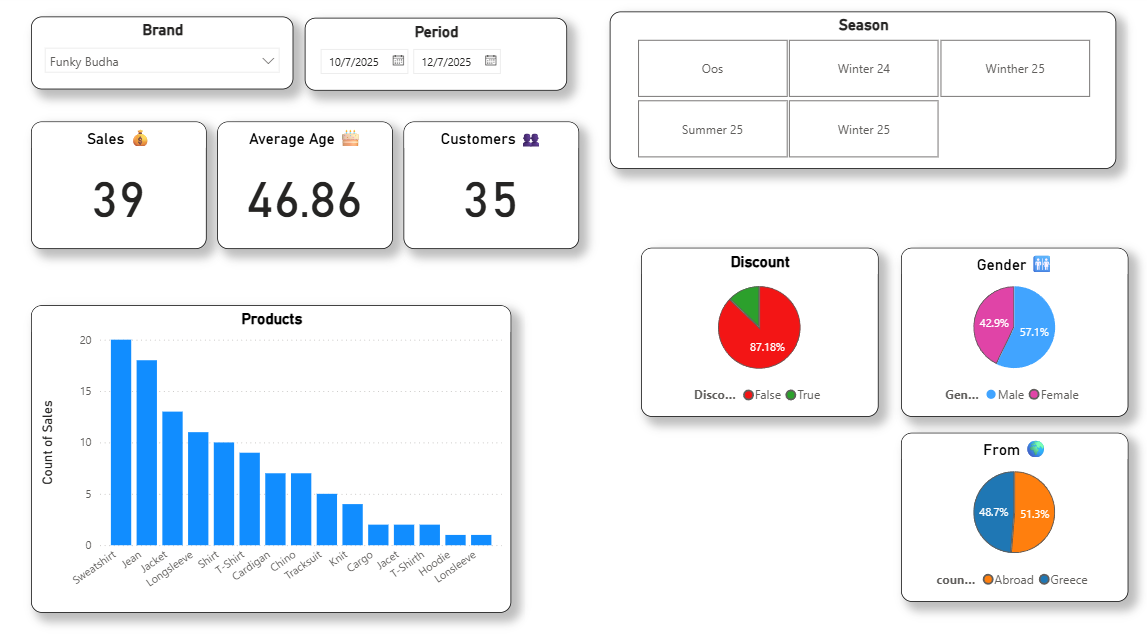

This screenshot's page, from the dashboard's own definition file:
{"tool":"powerbi","page":{"name":"Per Brand","canvas":[1280,720],"ordinal":3},"visuals":[{"type":"slicer","title":"Brand","fields":{"Values":["retail v_sales_fct.brand"]},"box":[38.5,24.2,287.9,79.8],"z":0},{"type":"card","title":"Sales 💰","fields":{"Values":["CountNonNull(retail v_sales_fct.sales_id)"]},"box":[38.5,139.7,192.4,139.7],"z":1000},{"type":"card","title":"Average Age 🎂","fields":{"Values":["Avg(retail v_customer.age)"]},"box":[242.3,139.7,192.4,139.7],"z":2000},{"type":"pieChart","title":"Gender 🚻","fields":{"Y":["CountNonNull(retail v_customer.gender)"],"Category":["retail v_customer.gender"]},"box":[993.2,278.8,249.4,185.3],"z":3000},{"type":"pieChart","title":"From 🌍","fields":{"Category":["retail v_sales_fct.country"],"Y":["CountNonNull(retail v_sales_fct.country)"]},"box":[993.2,481.2,249.4,185.3],"z":4000},{"type":"slicer","title":"Season","fields":{"Values":["retail v_product.season"]},"box":[674.2,18.5,555.9,172.5],"z":5000},{"type":"card","title":"Customers 👥","fields":{"Values":["Count(retail v_sales_fct.customer_id)"]},"box":[447.6,139.7,192.4,139.7],"z":6000},{"type":"slicer","title":"Period","fields":{"Values":["retail v_kpi_daily.day"]},"box":[339.2,25.7,287.9,79.8],"z":7000},{"type":"clusteredColumnChart","title":"Products","fields":{"Y":["CountNonNull(retail v_product.sale_id)"],"Category":["retail v_product.category"]},"box":[38.5,342.1,527.4,337.8],"z":8000},{"type":"pieChart","title":"Discount","fields":{"Category":["retail v_sales_fct.has_discount"],"Y":["CountNonNull(retail v_sales_fct.has_discount)"]},"box":[708,278.8,260.5,185.9],"z":9000}]}

Visuals, with their boxes in screenshot pixels (x1, y1, x2, y2), scaled from the page's 1280x720 canvas onto the 1147x642 screenshot:
"Brand" slicer: 34,22,292,93
"Sales 💰" card: 34,125,207,249
"Average Age 🎂" card: 217,125,390,249
"Gender 🚻" pieChart: 890,249,1113,414
"From 🌍" pieChart: 890,429,1113,594
"Season" slicer: 604,16,1102,170
"Customers 👥" card: 401,125,574,249
"Period" slicer: 304,23,562,94
"Products" clusteredColumnChart: 34,305,507,606
"Discount" pieChart: 634,249,868,414
